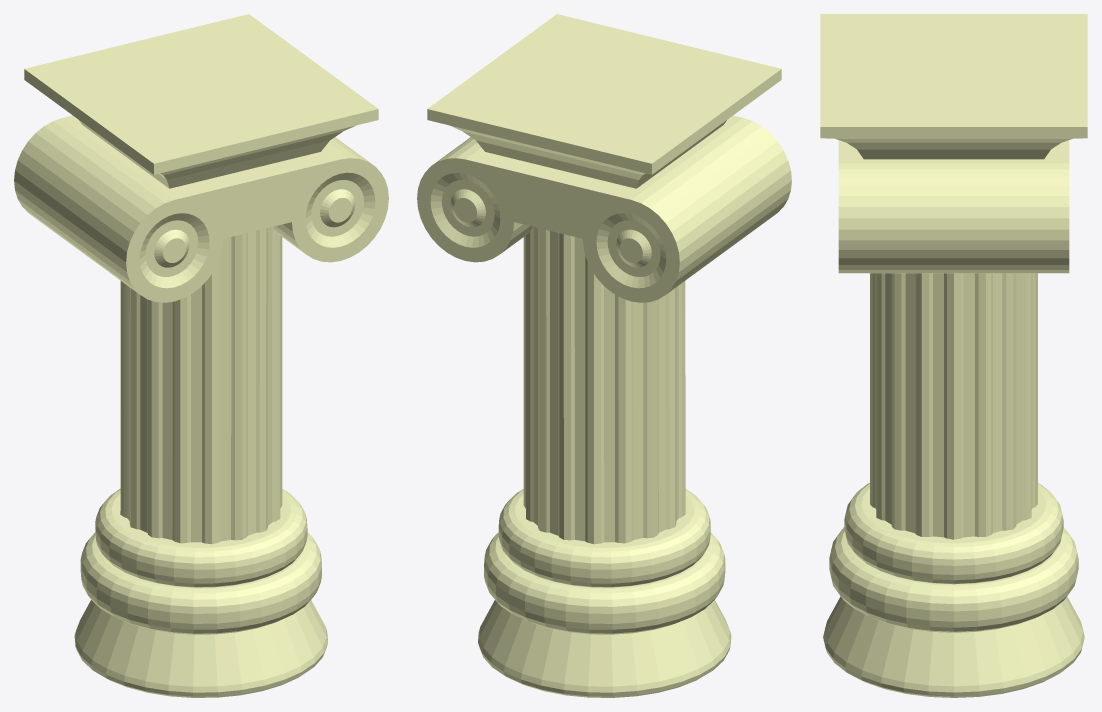
The model's file is Pillar.fbx.
3 renders of one model, left to right at view 1: azimuth 30°, elevation 25°; view 2: azimuth 150°, elevation 25°; view 3: azimuth 270°, elevation 25°, orthographic. The views are drawn at different scales.
Parts seen in each view (by area): view 1: Pillar; view 2: Pillar; view 3: Pillar.
Boxes of the visible parts, <box> form: Pillar: <box>14,14,388,697</box>; Pillar: <box>417,14,791,697</box>; Pillar: <box>820,14,1087,697</box>.
Bounding box in the file's own units: 285 × 580 × 244.
